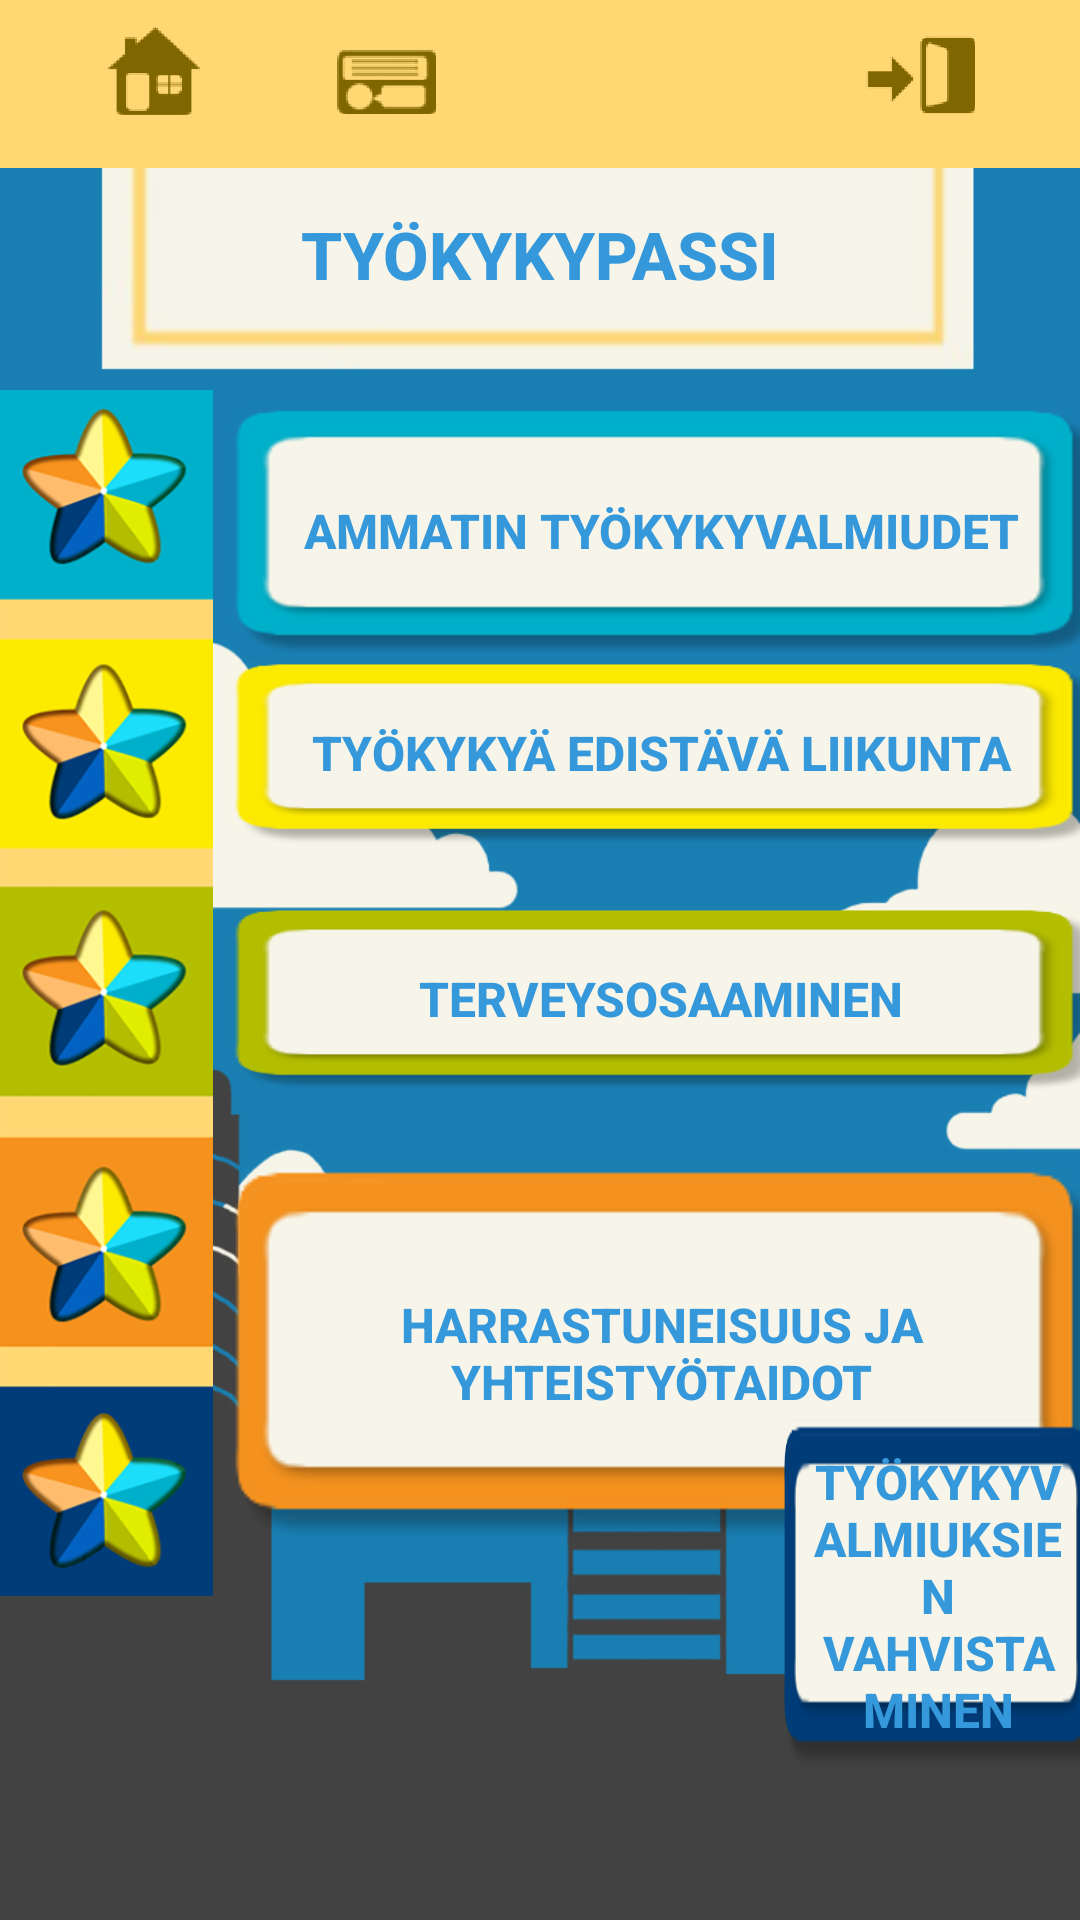

Where icons sit on this 1080w x 1920h app screen, as bbox=(x1, y1, x2, y2):
feedbackicon: bbox=(337, 50, 436, 114)
homeicon: bbox=(108, 27, 200, 115)
